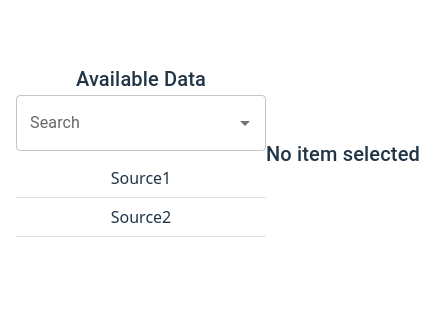
Dropdown Component › collapses data source when clicked again
Note: click on Source1 to expand
Click the button "Source1". click: (141,178)
box: [32,167,250,189]
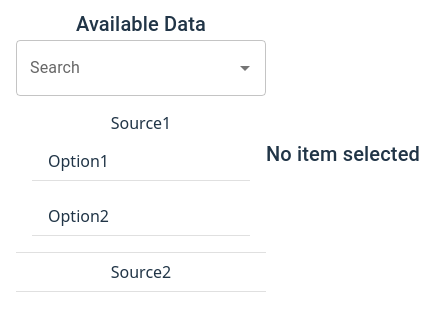
Expected: the text "Option1" is shown, [48,150,109,172]
Note: click again to collapse
Click the button "Source1". click: (141,123)
box: [32,112,250,134]
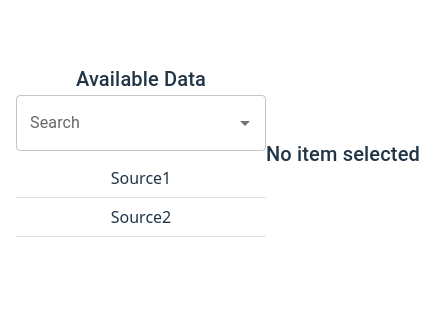
Expected: the button "Option1" is gone
